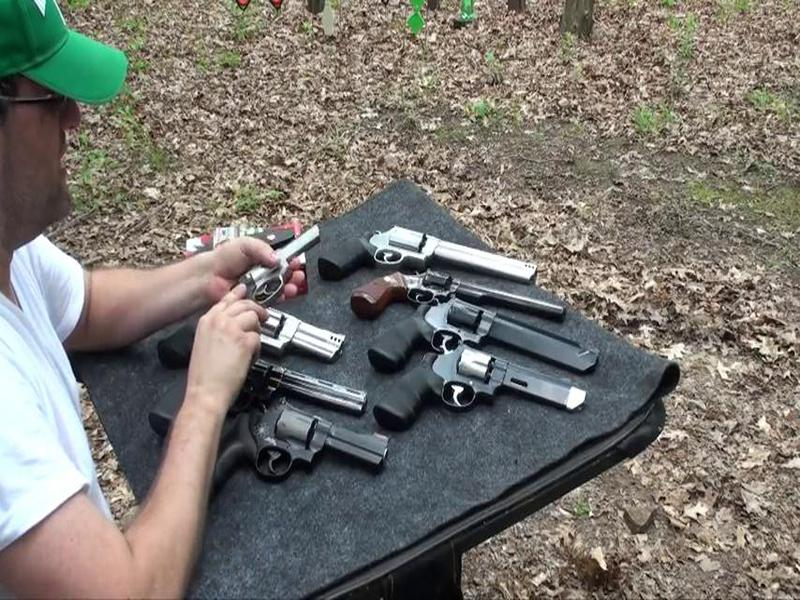Revolver: (202, 226, 332, 364)
